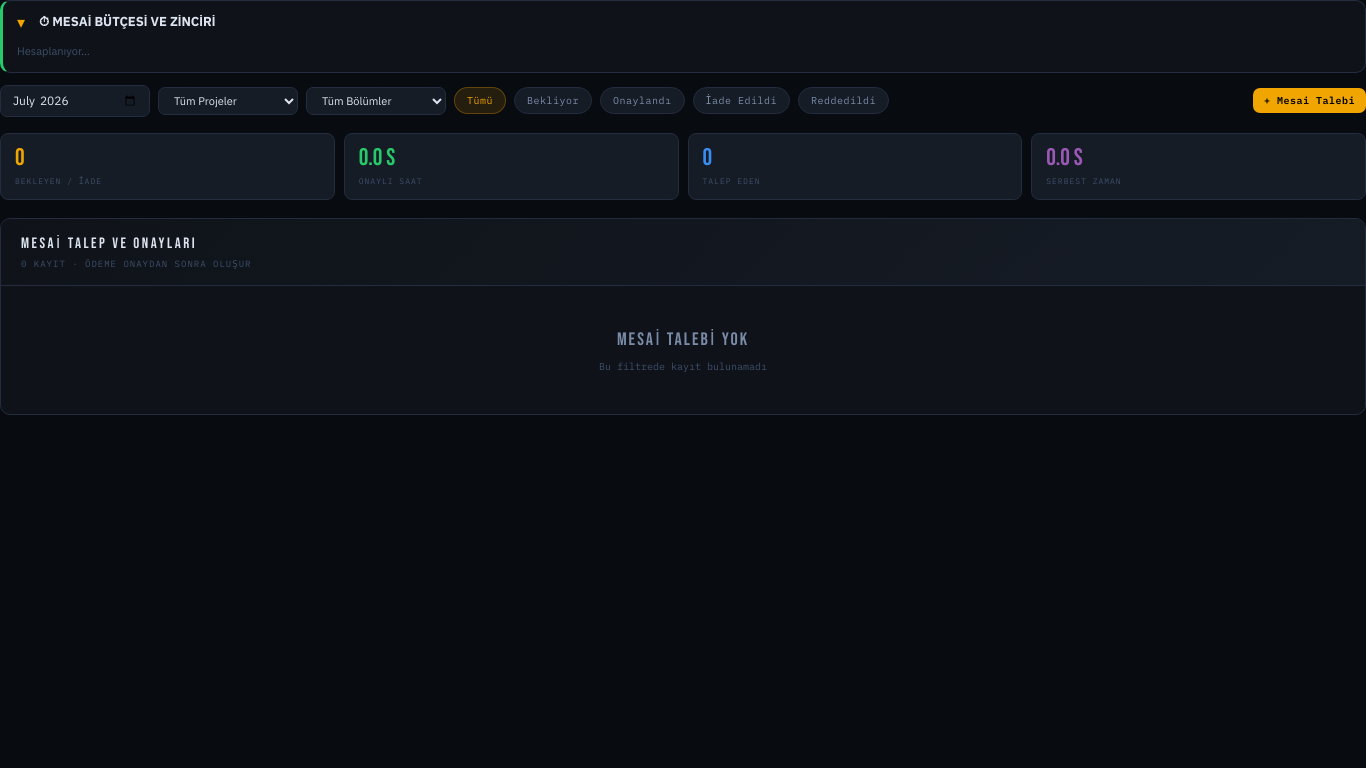
shifts tabs smoke › OvertimeTab kontrollü mesai talep formunu açar
The image size is (1366, 768).
Click the button "+ Mesai Talebi" at (1310, 100), box [1253,88,1365,113]
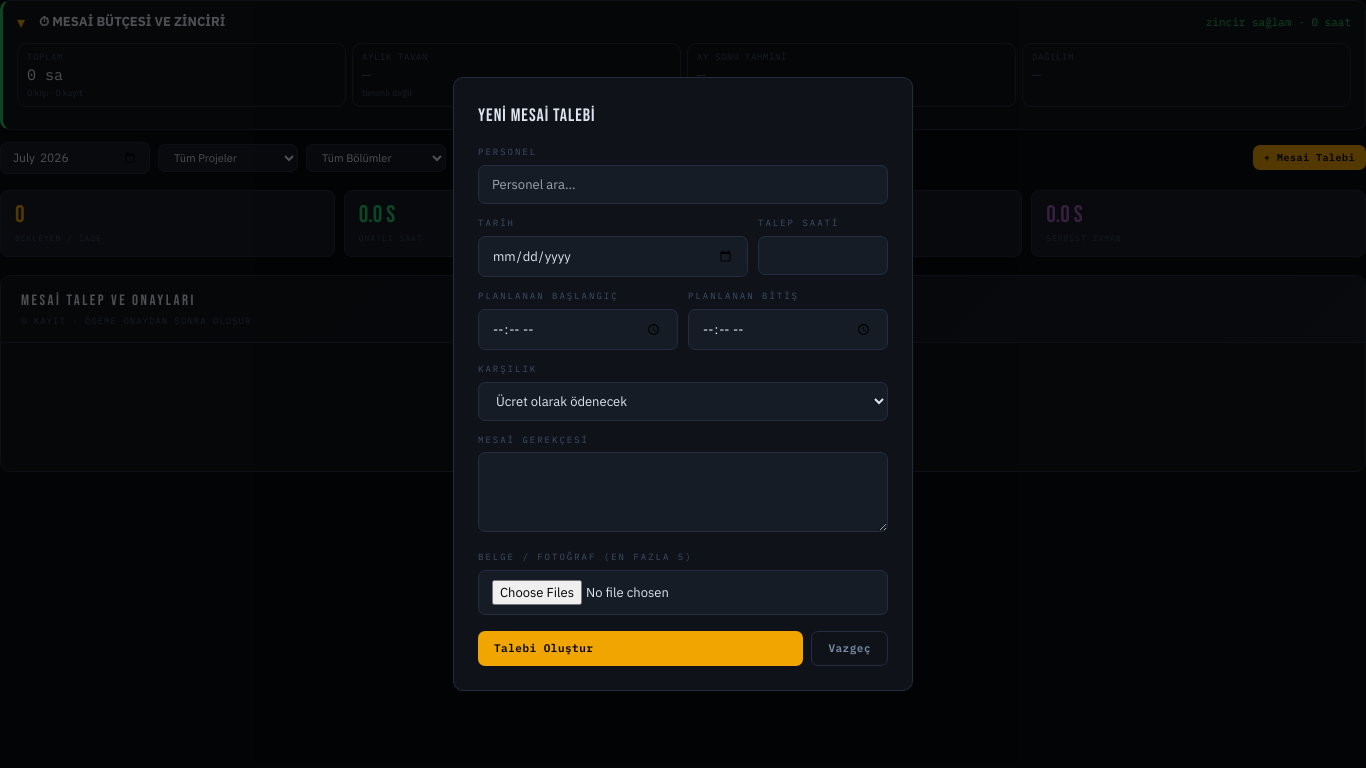
Expected: the heading "YENİ MESAİ TALEBİ" is shown, [478,105,596,126]
Expected: the text "Karşılık" is shown, [478,363,537,374]
Expected: the text "Belge / fotoğraf (en fazla 5)" is shown, [478,551,693,562]
